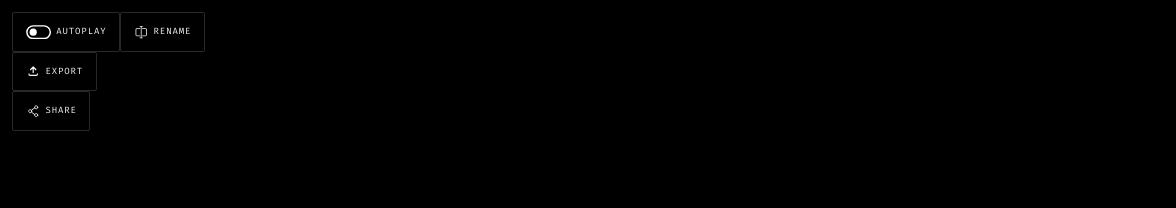
it: playlist hero actions › closes the menu on Escape and on a click outside
Click the button "Export" at (54, 71), box [12, 52, 97, 91]
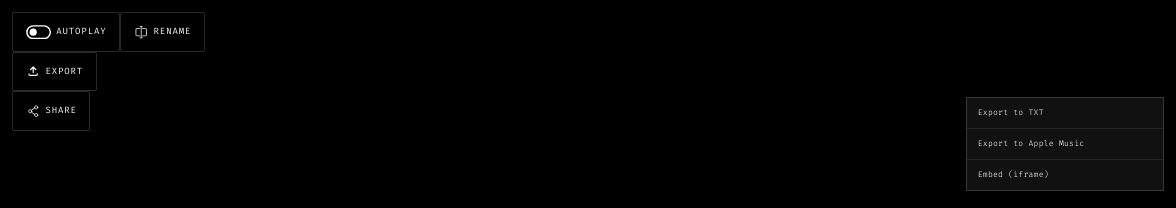
Press Escape
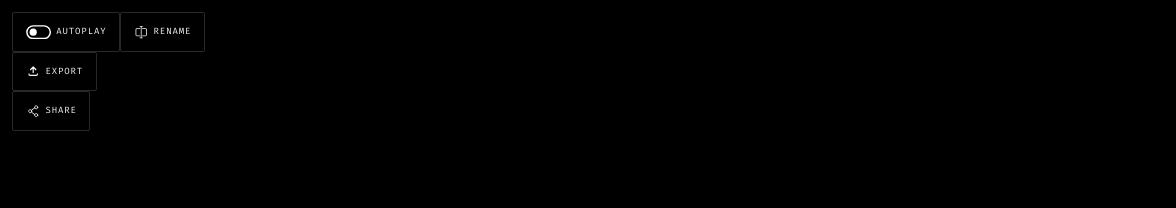
Result: the menu is gone
Click the button "Export" at (54, 71), box [12, 52, 97, 91]
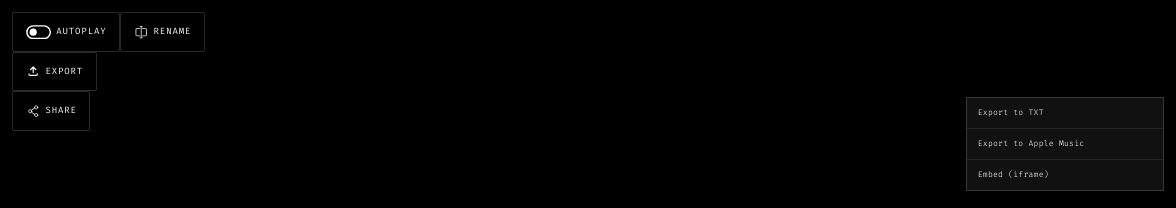
Press the mouse on the element that starts with "Autoplay" at (588, 71), box [12, 12, 1164, 131]
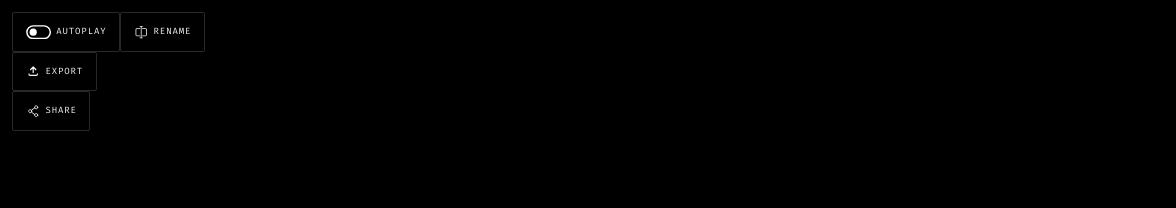
Result: the menu is gone
